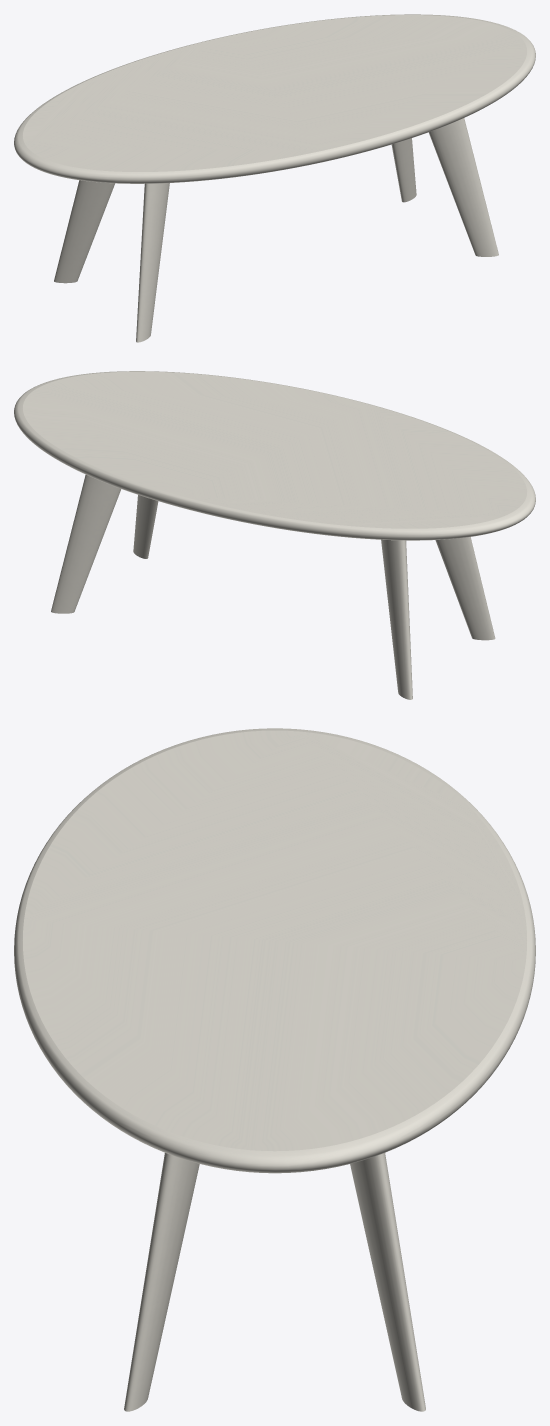
The model's file is pale_ellips_round_ferdinantwalnut.glb.
3 renders of one model, top to bottom at view 1: azimuth 30°, elevation 25°; view 2: azimuth 150°, elevation 25°; view 3: azimuth 270°, elevation 25°, orthographic. The views are drawn at different scales.
Parts seen in each view (by area): view 1: round_ellips, ferdinandwalnut; view 2: round_ellips, ferdinandwalnut; view 3: round_ellips, ferdinandwalnut.
Boxes of the visible parts, <box> form: round_ellips: <box>14,14,535,183</box>; ferdinandwalnut: <box>54,118,498,342</box>; round_ellips: <box>14,371,535,540</box>; ferdinandwalnut: <box>51,475,495,699</box>; round_ellips: <box>14,728,535,1173</box>; ferdinandwalnut: <box>124,1153,425,1411</box>.
Size of the model in its own units: 7.5 by 2.51 by 3.8.
Materials: 1 (1 with a texture image).
